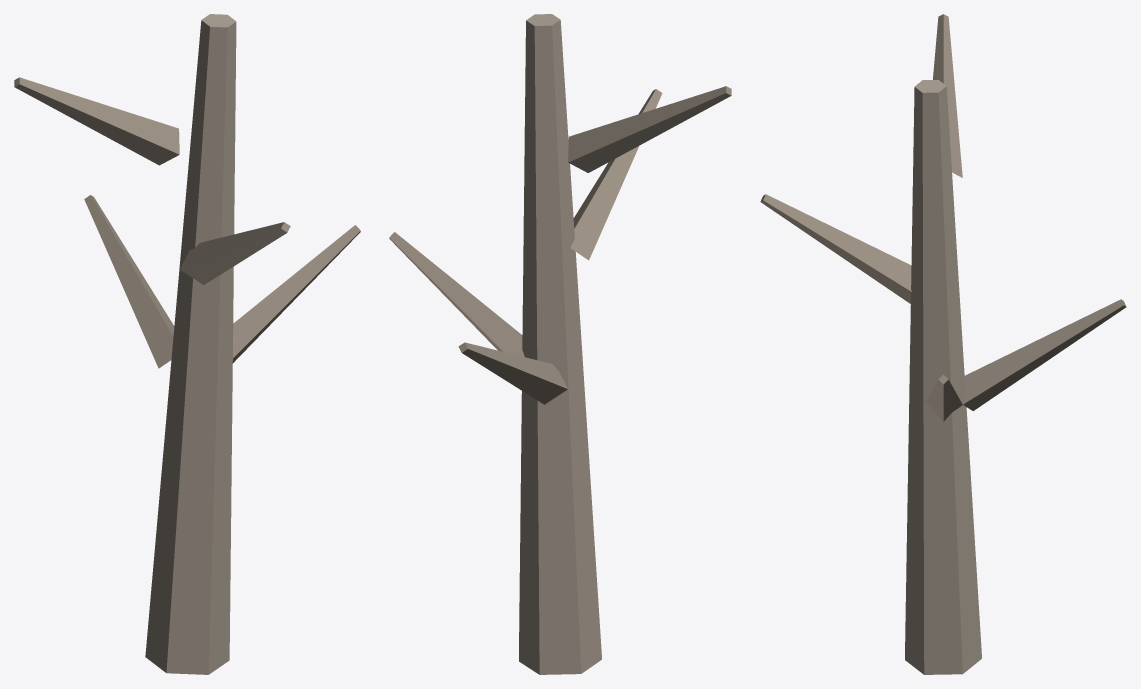
Rendered from deadtree_v13.glb.
The picture shows the model from 3 angles, left to right: view 1: azimuth 30°, elevation 25°; view 2: azimuth 150°, elevation 25°; view 3: azimuth 270°, elevation 25°; orthographic projection. The views are drawn at different scales.
Parts seen in each view (by area): view 1: lod0; view 2: lod0; view 3: lod0.
Part boxes in pixels (x1,y1,x2,y2): lod0: (14,14,360,674); lod0: (389,14,731,674); lod0: (760,14,1126,674).
Size of what is drawn, in the model's own units: 2.1 by 3.71 by 2.1.
